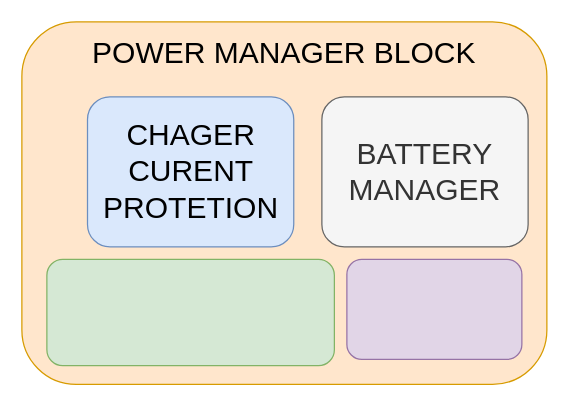
The diagram is 569 pixels wide and 406 high, and some of its shapes have lost their labels. The shapes that lost their labels are listed below. From the top down, each one's centre as x and y in pixels, then its label:
At pixel 190 312: "BATTERY GAUGES BALANCER".
At pixel 434 308: "BATTERY MONITOR".
